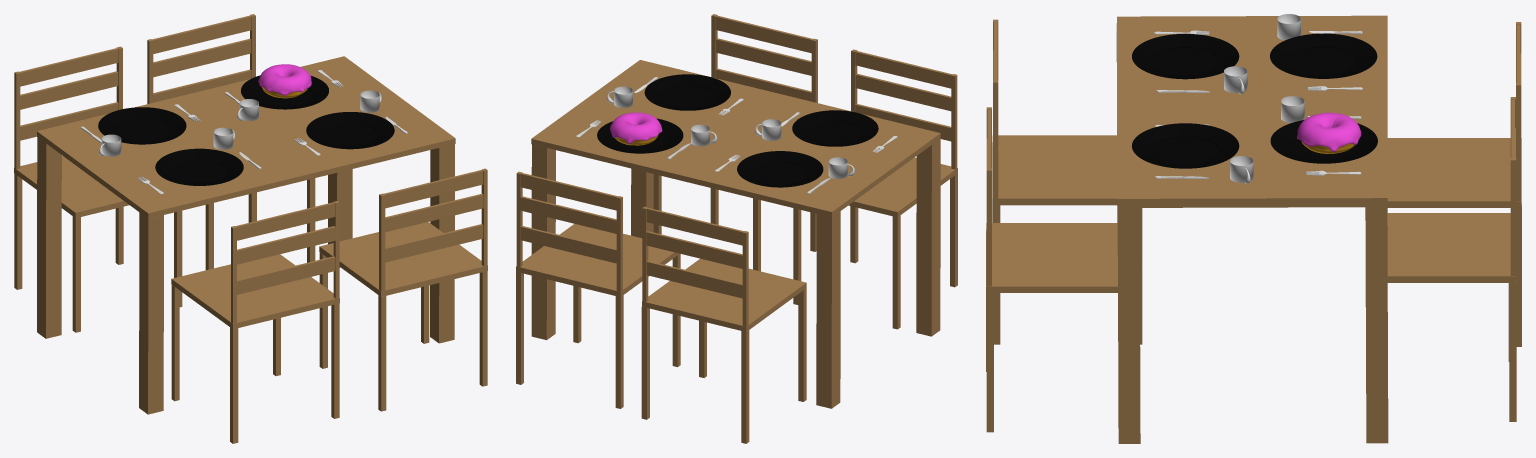
Rendered from fruehstueckstisch.fbx.
3 views of the same model, side by side, from view 1: azimuth 30°, elevation 25°; view 2: azimuth 150°, elevation 25°; view 3: azimuth 270°, elevation 25° (orthographic). The views are drawn at different scales.
Visible parts, largest first — view 1: tisch, stuhl3, stuhl4, stuhl2, stuhl1, teller2, teller4, teller1, teller3, icing; view 2: tisch, stuhl2, stuhl1, stuhl3, stuhl4, teller2, teller1, teller4, teller3, icing, tasse1, tasse4 (+2 smaller); view 3: tisch, stuhl4, stuhl1, stuhl2, stuhl3, teller4, teller1, teller2, teller3, icing, tasse1, tasse2 (+2 smaller).
Part boxes in pixels (bbox=[...]): tisch: bbox=[37, 56, 455, 414]; stuhl3: bbox=[171, 201, 339, 443]; stuhl4: bbox=[319, 168, 487, 411]; stuhl2: bbox=[14, 46, 182, 332]; stuhl1: bbox=[147, 14, 315, 270]; teller2: bbox=[155, 148, 243, 185]; teller4: bbox=[306, 112, 394, 149]; teller1: bbox=[98, 107, 186, 144]; teller3: bbox=[241, 75, 328, 109]; icing: bbox=[258, 64, 311, 95]; tisch: bbox=[531, 60, 940, 408]; stuhl2: bbox=[641, 206, 806, 443]; stuhl1: bbox=[516, 171, 680, 408]; stuhl3: bbox=[793, 49, 957, 329]; stuhl4: bbox=[653, 14, 817, 271]; teller2: bbox=[792, 110, 878, 146]; teller1: bbox=[737, 151, 823, 187]; teller4: bbox=[644, 74, 730, 110]; teller3: bbox=[597, 118, 683, 153]; icing: bbox=[610, 112, 662, 144]; tasse1: bbox=[755, 119, 781, 140]; tasse4: bbox=[828, 157, 854, 178]; tisch: bbox=[1116, 15, 1388, 443]; stuhl4: bbox=[986, 107, 1117, 432]; stuhl1: bbox=[1387, 97, 1516, 421]; stuhl2: bbox=[1387, 22, 1521, 346]; stuhl3: bbox=[992, 19, 1142, 344]; teller4: bbox=[1132, 123, 1239, 168]; teller1: bbox=[1270, 33, 1377, 78]; teller2: bbox=[1132, 33, 1239, 79]; teller3: bbox=[1270, 120, 1377, 163]; icing: bbox=[1297, 112, 1361, 152]; tasse1: bbox=[1224, 66, 1247, 94]; tasse2: bbox=[1230, 156, 1253, 183].
Bounding box in the file's own units: 236 × 167 × 293.
